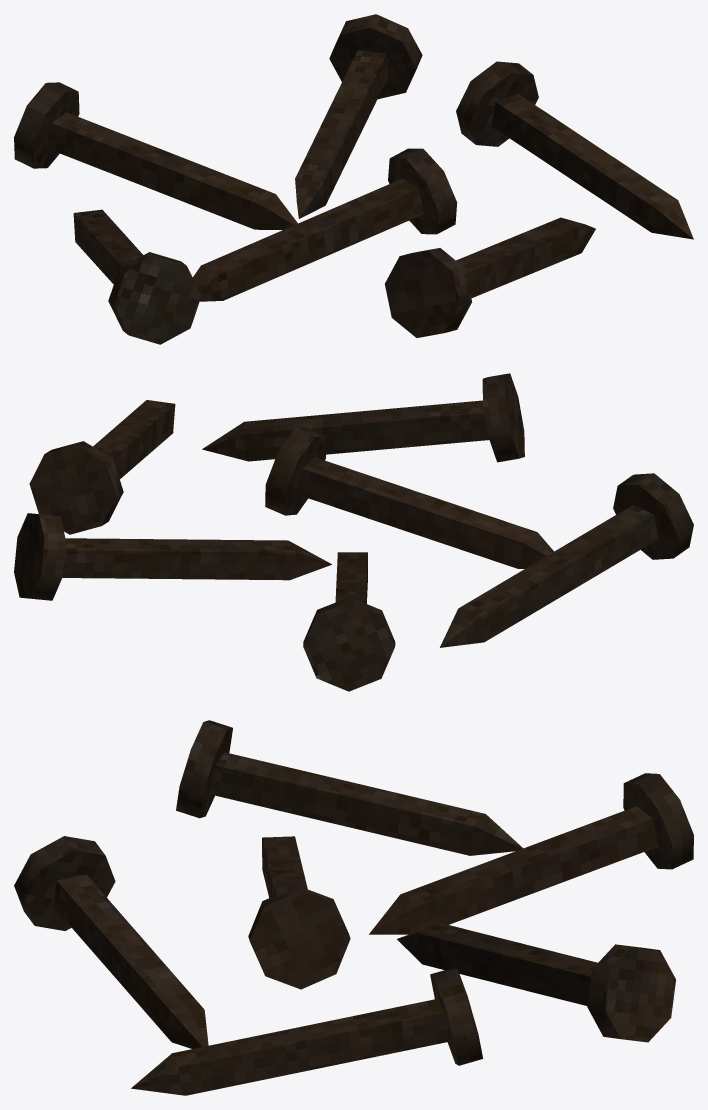
Rendered from nails_1_rusty.glb.
The picture shows the model from 3 angles, top to bottom: view 1: azimuth 30°, elevation 25°; view 2: azimuth 150°, elevation 25°; view 3: azimuth 270°, elevation 25°; orthographic projection. The views are drawn at different scales.
Parts seen in each view (by area): view 1: nails_1_rusty; view 2: nails_1_rusty; view 3: nails_1_rusty.
Part boxes in pixels (x1,y1,x2,y2): nails_1_rusty: (14, 14, 693, 344); nails_1_rusty: (14, 373, 693, 691); nails_1_rusty: (14, 720, 693, 1095).
Size of the model in its own units: 0.1405 by 0.0211 by 0.1348.
1 material, 1 textured.
